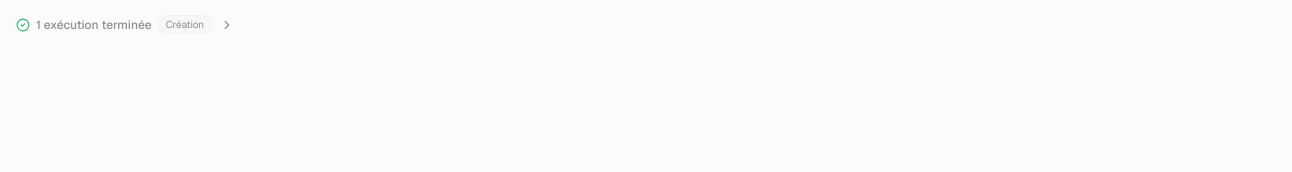
Test: AssistantStepsRenderer › se replie automatiquement en une ligne résumée quand tout est terminé (collapsible)
expect the text "1 exécution terminée" is shown: met, box [36,17,152,33]
expect the text "Création" is shown: met, box [158,16,212,33]
Click the button with test id "ai-steps-toggle" at (125, 25), box [12,12,238,37]
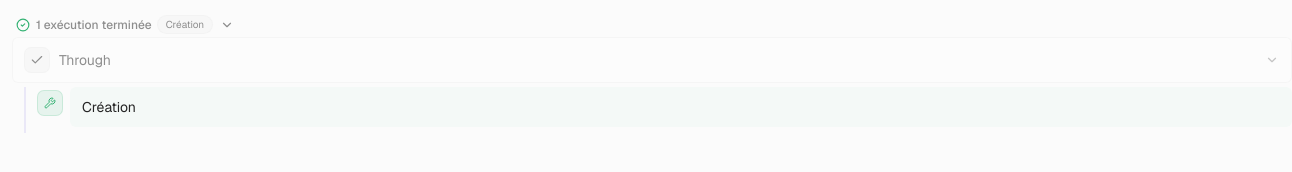
expect the button with test id "ai-steps-toggle" is expanded: met, box [12,12,238,37]
